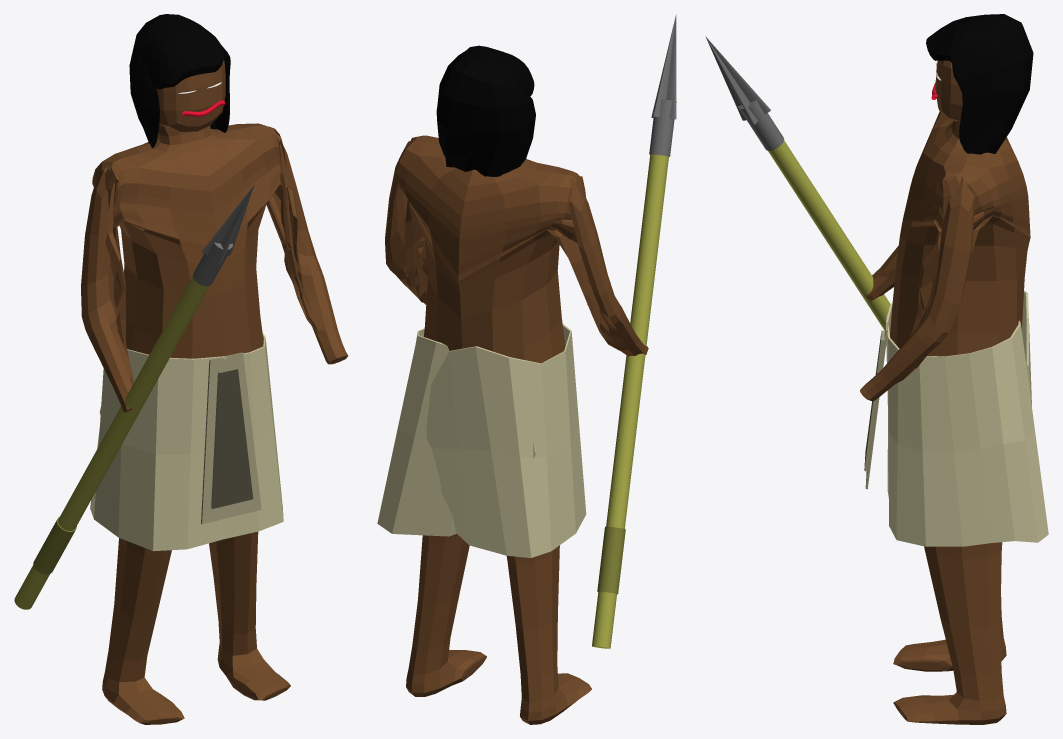
The model's file is Hlavní_postava_starověk.fbx.
3 views of the same model, side by side, from view 1: azimuth 30°, elevation 25°; view 2: azimuth 150°, elevation 25°; view 3: azimuth 270°, elevation 25° (orthographic). The views are drawn at different scales.
Parts seen in each view (by area): view 1: Cube, Plane, Cylinder.002, Plane.001, Plane.002; view 2: Cube, Plane, Cylinder.002, Plane.002; view 3: Cube, Plane, Plane.002, Cylinder.002, Plane.001.
Part boxes in pixels (bbox=[...]): Cube: bbox=[81, 60, 348, 724]; Plane: bbox=[90, 333, 283, 551]; Cylinder.002: bbox=[14, 185, 254, 609]; Plane.001: bbox=[201, 352, 261, 524]; Plane.002: bbox=[129, 14, 230, 148]; Cube: bbox=[385, 135, 648, 724]; Plane: bbox=[377, 324, 586, 557]; Cylinder.002: bbox=[592, 14, 676, 648]; Plane.002: bbox=[436, 45, 535, 176]; Cube: bbox=[860, 60, 1030, 724]; Plane: bbox=[886, 290, 1048, 546]; Plane.002: bbox=[926, 14, 1033, 154]; Cylinder.002: bbox=[705, 36, 890, 329]; Plane.001: bbox=[864, 314, 888, 489].
Bounding box in the file's own units: 142 × 343 × 158.
